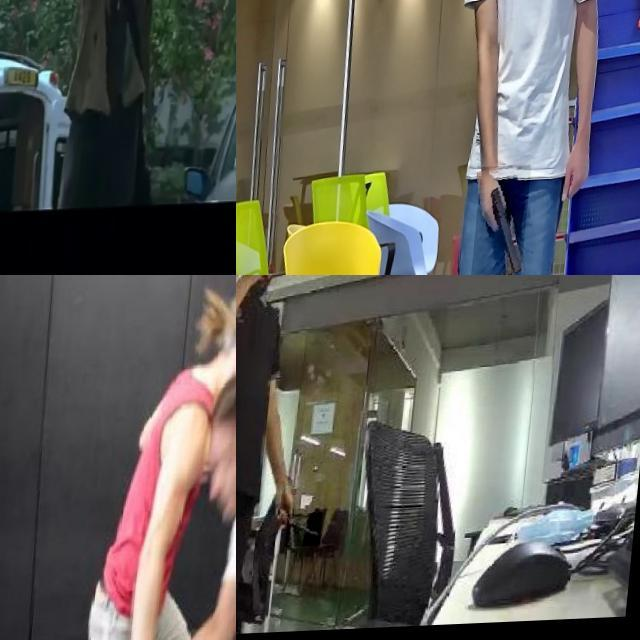-: (296, 516, 334, 550)
gun-knife-thesis - v11 Yolov5 augmented: (479, 168, 537, 275), (87, 0, 129, 37)
